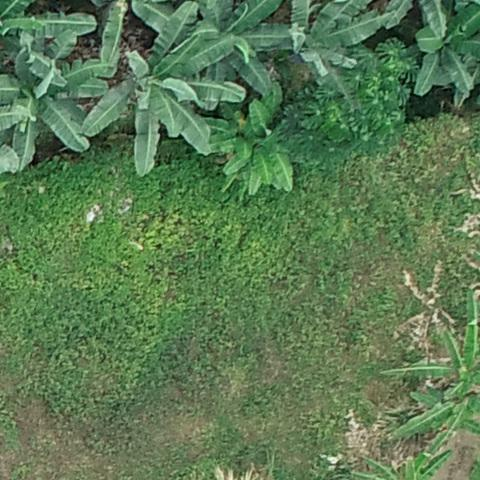Banana-plant: (100, 42, 225, 181), (1, 51, 104, 171), (185, 0, 292, 109), (212, 95, 307, 202), (287, 0, 392, 79), (402, 0, 480, 104), (392, 333, 480, 405)
